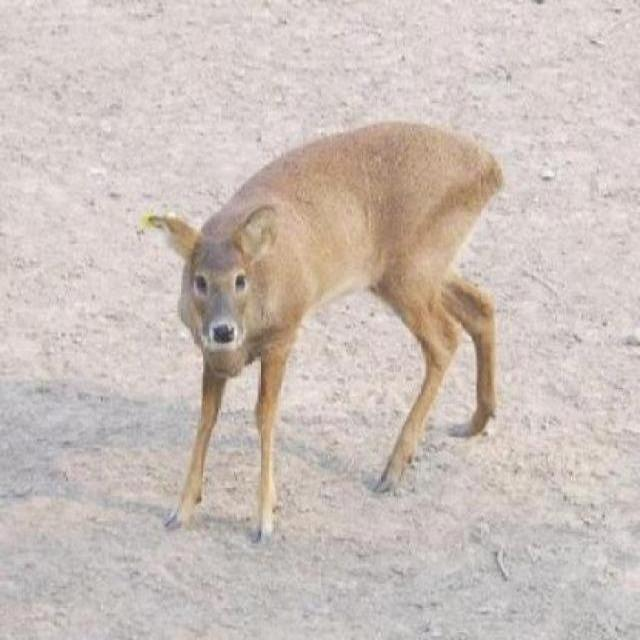deer: (145, 113, 510, 536)
